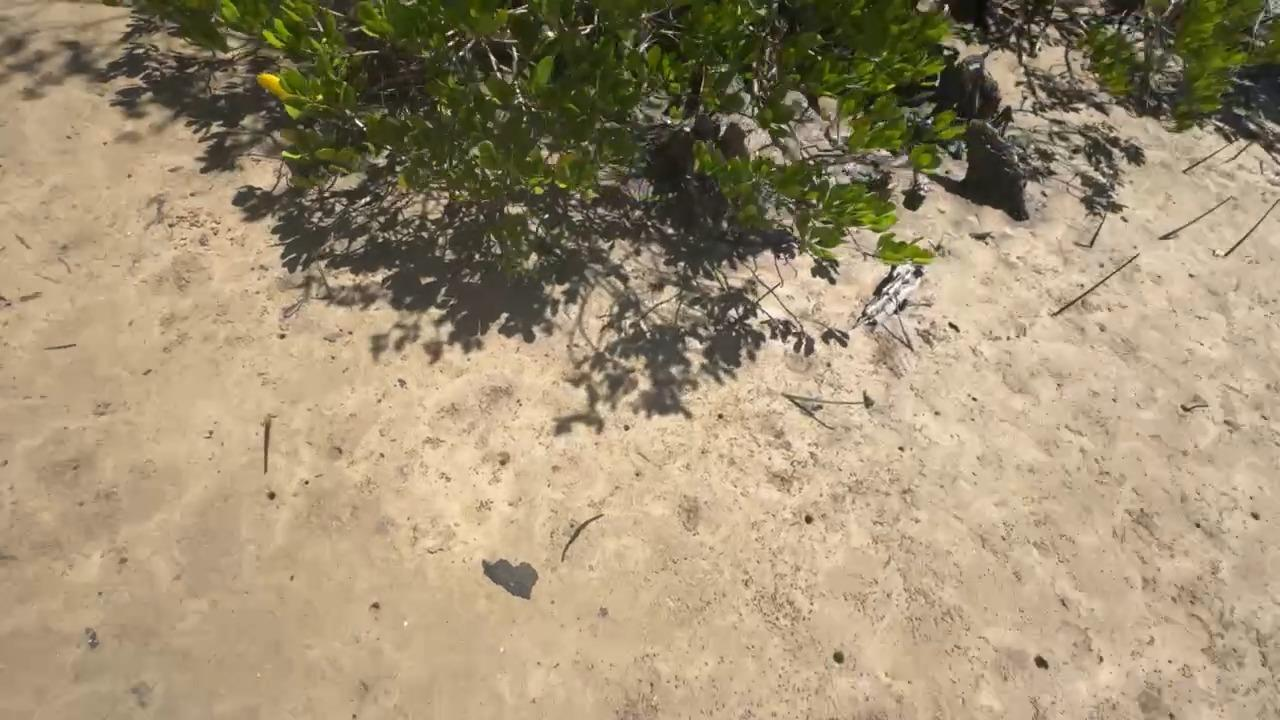Tree: (1055, 255, 1143, 315), (1159, 196, 1235, 239), (1224, 200, 1280, 257), (1183, 136, 1243, 172), (783, 392, 870, 407), (1090, 212, 1106, 248), (579, 515, 604, 532), (1232, 141, 1255, 159), (259, 415, 270, 427)
